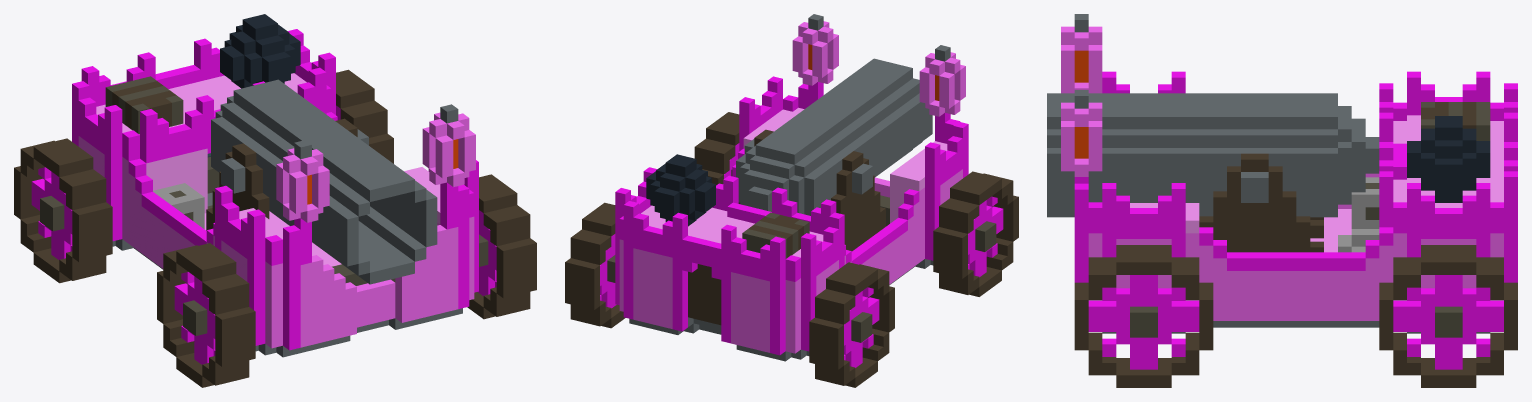
File: tank.obj
The picture shows the model from 3 angles, left to right: view 1: azimuth 30°, elevation 25°; view 2: azimuth 150°, elevation 25°; view 3: azimuth 270°, elevation 25°; orthographic projection. The views are drawn at different scales.
Bounding box in the file's own units: 2.8 × 2 × 3.4.
1 material, 1 textured.
